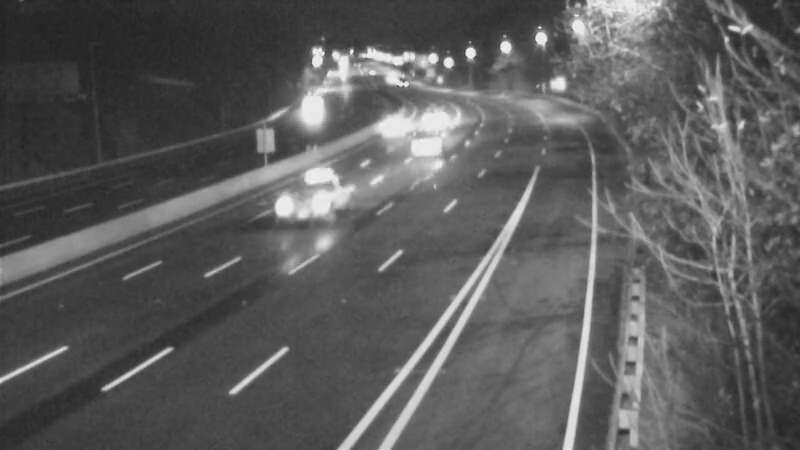vehicle: (274, 156, 354, 236), (374, 56, 424, 106), (411, 94, 461, 144), (367, 102, 417, 152), (403, 122, 453, 172), (285, 84, 335, 134)
